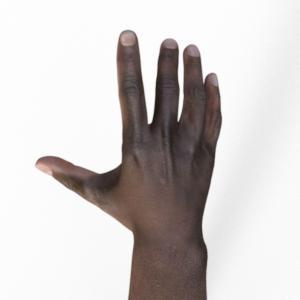paper: (36, 30, 221, 300)
